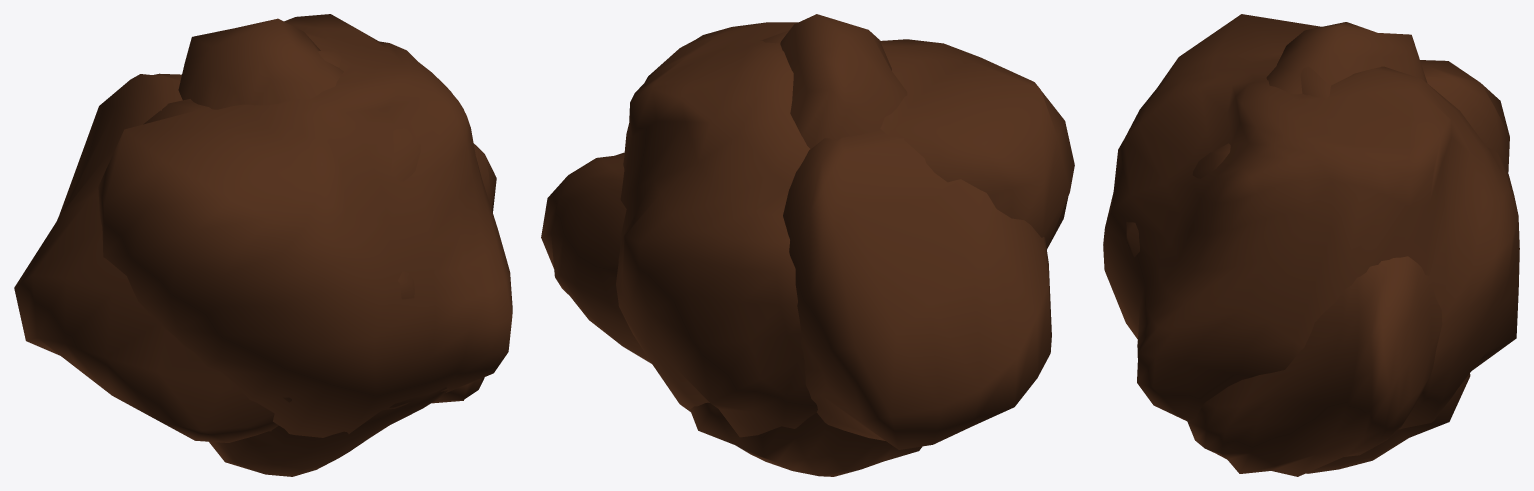
File: Rocks.fbx
3 views of the same model, side by side, from view 1: azimuth 30°, elevation 25°; view 2: azimuth 150°, elevation 25°; view 3: azimuth 270°, elevation 25° (orthographic). The views are drawn at different scales.
Parts seen in each view (by area): view 1: Rock3, Rock2, Rock1; view 2: Rock3, Rock2, Rock1; view 3: Rock3, Rock2, Rock1.
Part boxes in pixels (box(x1,y1,x2,y2)): Rock3: box(98, 14, 512, 437); Rock2: box(14, 51, 496, 442); Rock1: box(178, 18, 446, 476); Rock3: box(616, 22, 1074, 437); Rock2: box(541, 30, 1051, 449); Rock1: box(690, 14, 922, 476); Rock3: box(1103, 14, 1519, 429); Rock2: box(1126, 60, 1509, 476); Rock1: box(1192, 22, 1470, 473).
Size of the model in its own units: 8.7 by 7.91 by 6.77.
